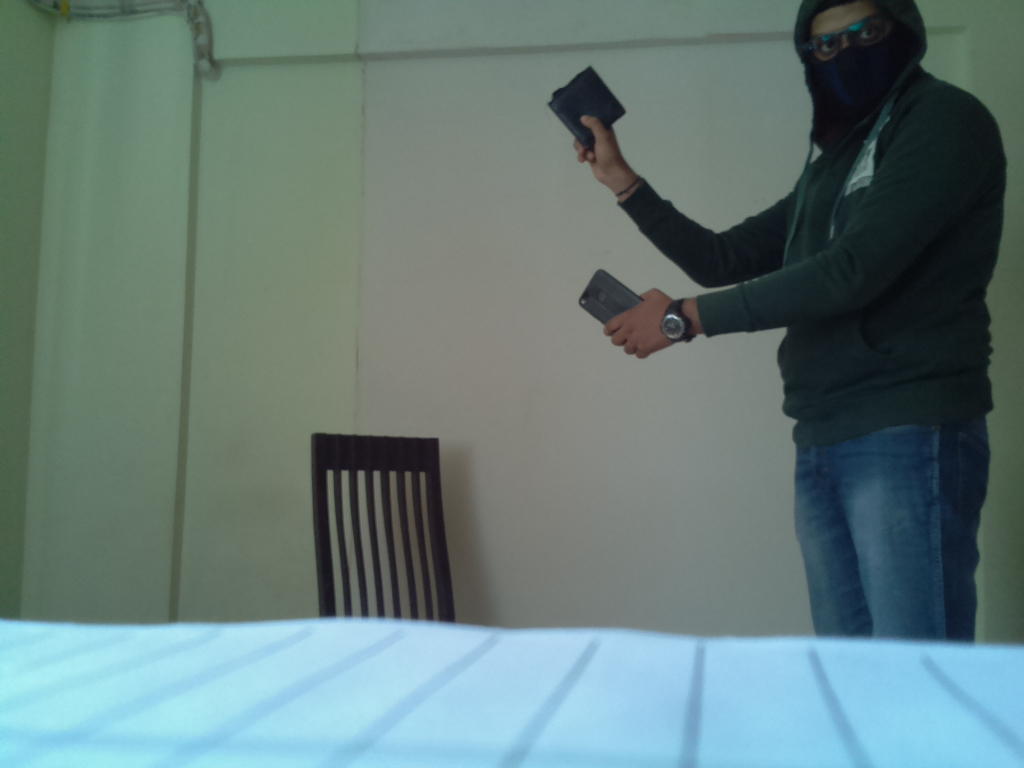none2: (543, 58, 633, 152), (566, 266, 640, 322), (656, 299, 694, 342)
